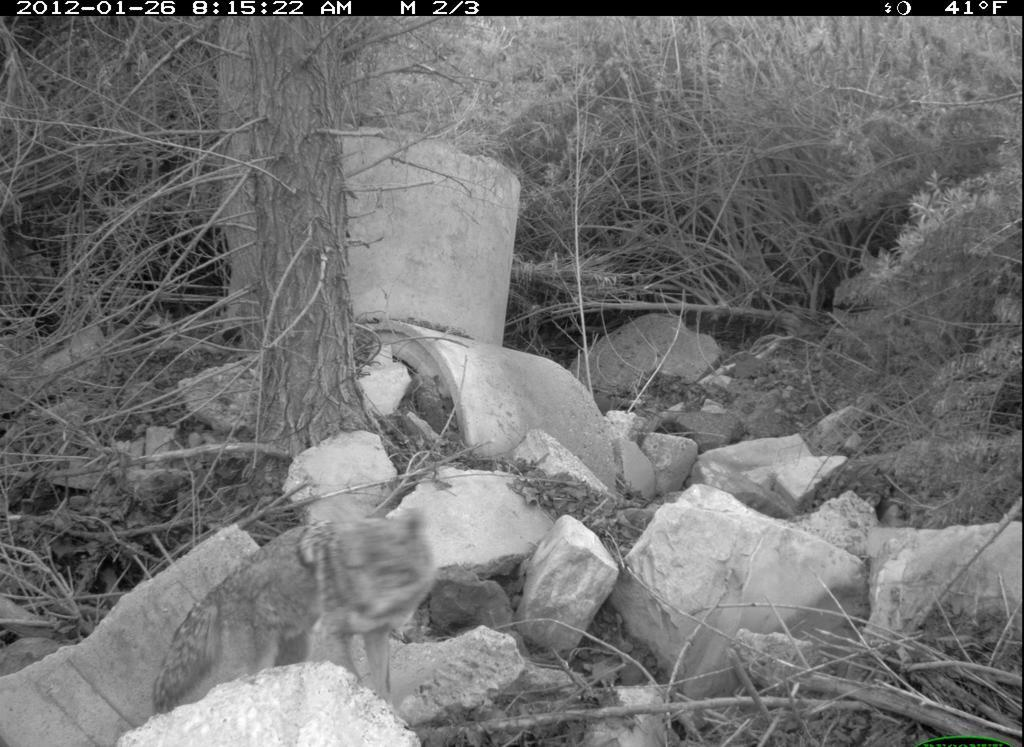coyote: (91, 489, 449, 716)
